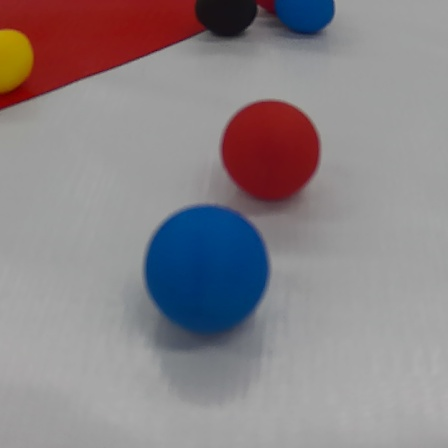black: (192, 2, 262, 37)
blue: (141, 203, 272, 335), (275, 0, 335, 46)
red: (219, 100, 323, 203)
red_base: (0, 0, 249, 110)
yellow: (0, 28, 34, 95)
